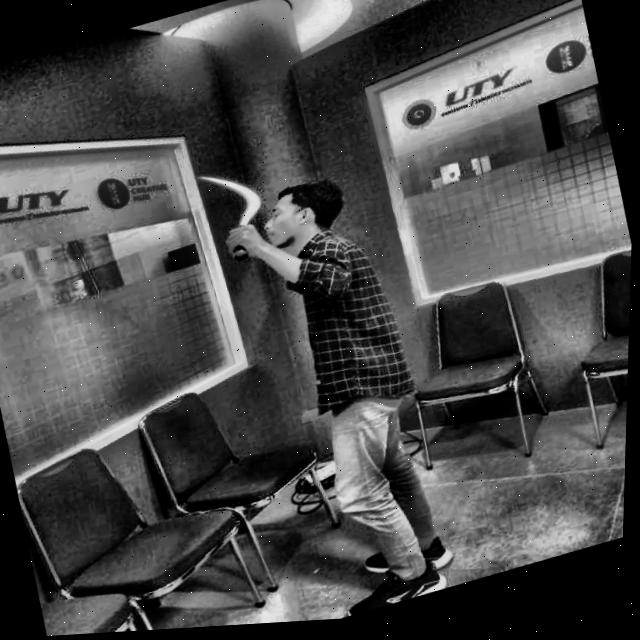celurit: (167, 141, 290, 283)
